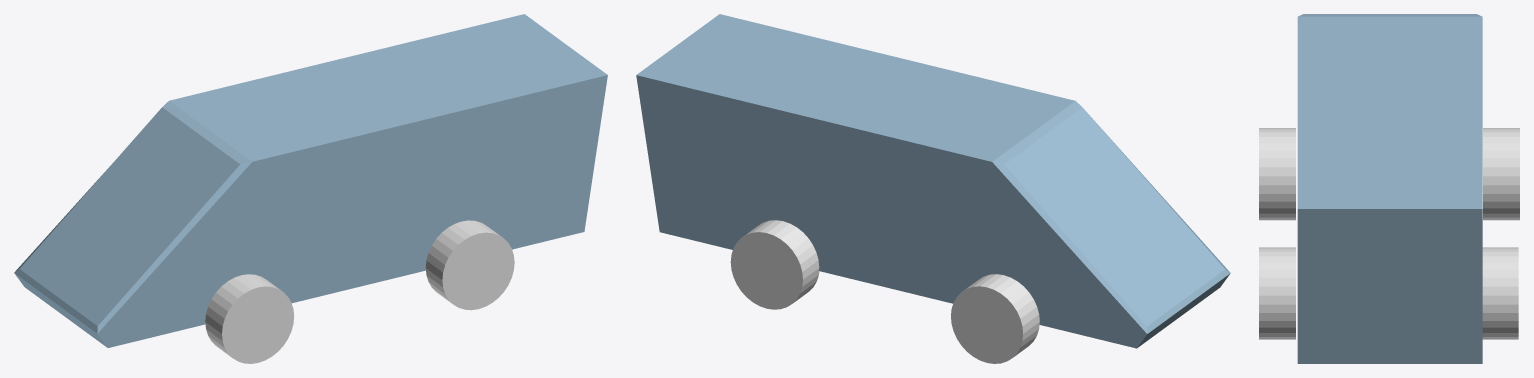
Rendered from halftrack.fbx.
3 views of the same model, side by side, from view 1: azimuth 30°, elevation 25°; view 2: azimuth 150°, elevation 25°; view 3: azimuth 270°, elevation 25° (orthographic). The views are drawn at different scales.
Visible parts, largest first — view 1: Chassis, FrontLeftWheel, LeftTrack; view 2: Chassis, FrontRightWheel, LeftTrack.001; view 3: Chassis, LeftTrack.001, LeftTrack, FrontRightWheel, FrontLeftWheel.
Part boxes in pixels (left/top/right/bottom): Chassis: left=14, top=14, right=607, bottom=347; FrontLeftWheel: left=205, top=274, right=294, bottom=363; LeftTrack: left=425, top=220, right=514, bottom=310; Chassis: left=636, top=14, right=1230, bottom=348; FrontRightWheel: left=951, top=274, right=1039, bottom=363; LeftTrack.001: left=730, top=220, right=819, bottom=309; Chassis: left=1297, top=14, right=1482, bottom=363; LeftTrack.001: left=1482, top=247, right=1518, bottom=339; LeftTrack: left=1259, top=247, right=1295, bottom=339; FrontRightWheel: left=1483, top=128, right=1519, bottom=220; FrontLeftWheel: left=1259, top=128, right=1295, bottom=220.
Size of the model in its own units: 7.07 by 2.46 by 2.82.
